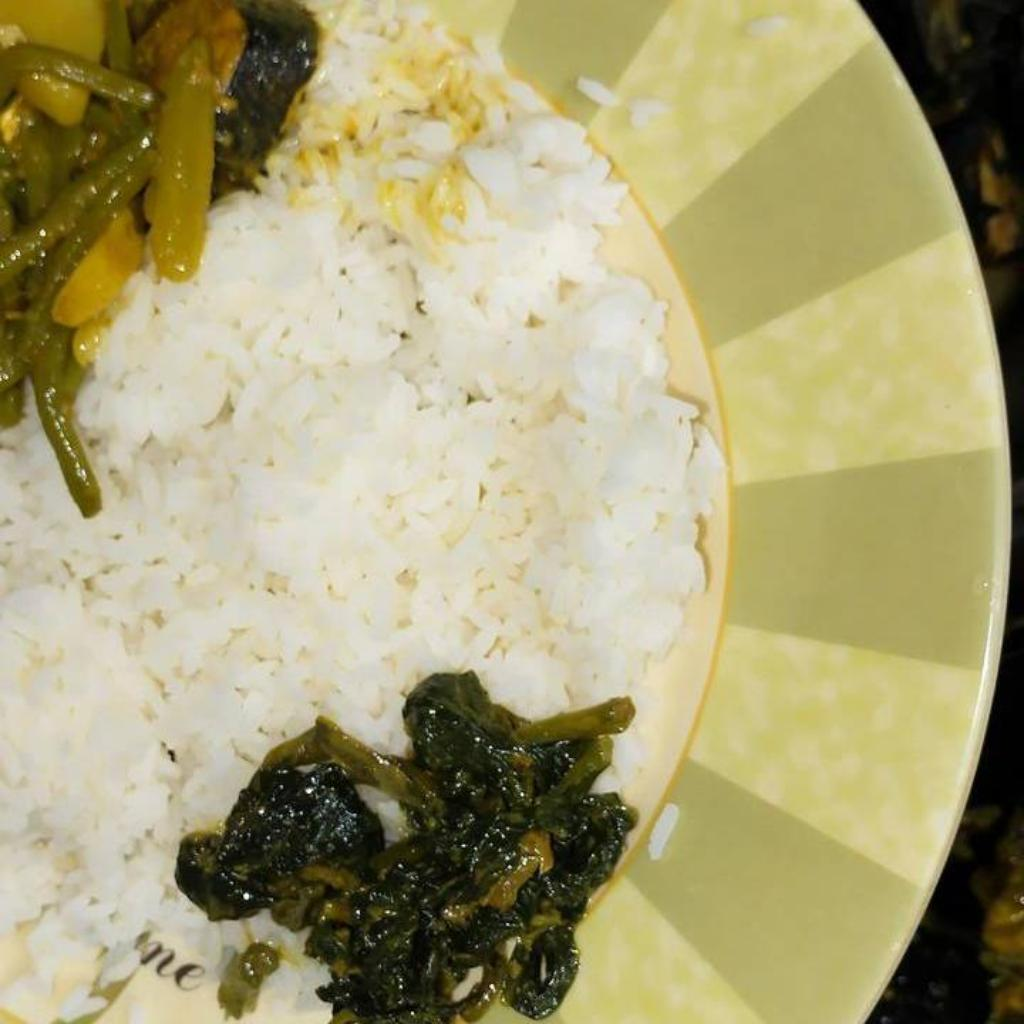rice: (2, 0, 714, 1012)
shak: (178, 659, 637, 1023)
vegetable: (3, 0, 315, 510)
